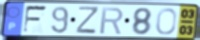8: (130, 7, 154, 36)
9: (49, 6, 70, 35)
F: (21, 5, 49, 35)
O: (154, 7, 178, 36)
R: (99, 6, 125, 35)
Z: (75, 6, 101, 36)
